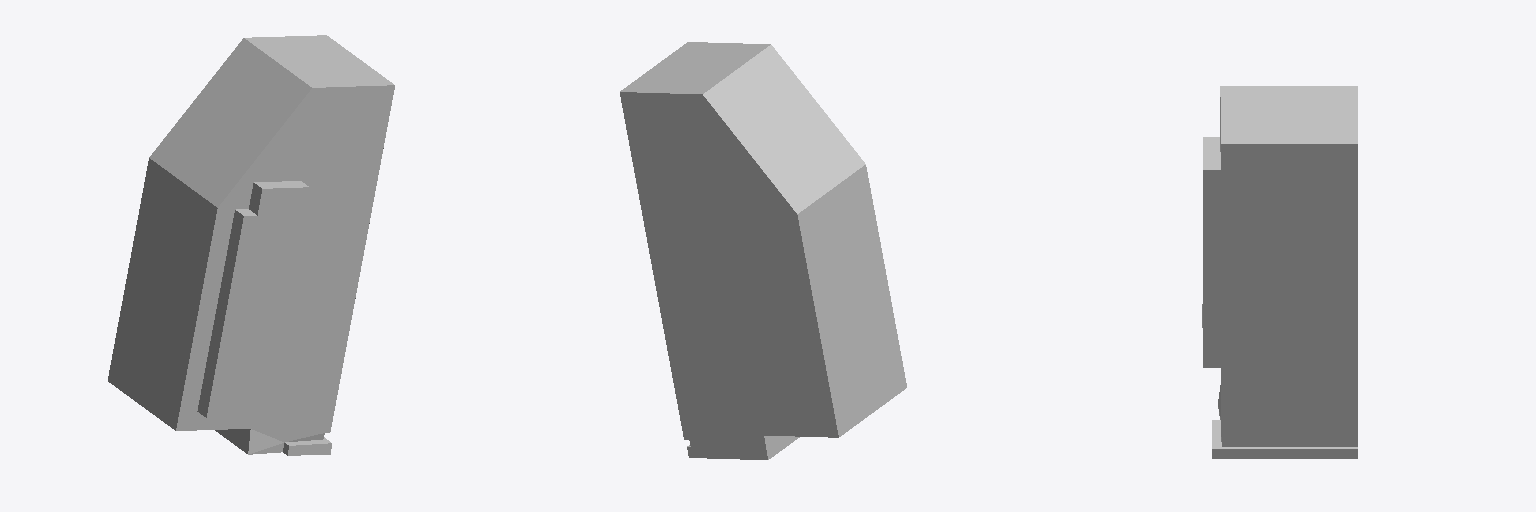
File: talo_Build0000048.obj
3 renders of one model, left to right at view 1: azimuth 30°, elevation 25°; view 2: azimuth 150°, elevation 25°; view 3: azimuth 270°, elevation 25°, orthographic.
Bounding box in the file's own units: 32.45 × 51.83 × 19.86.